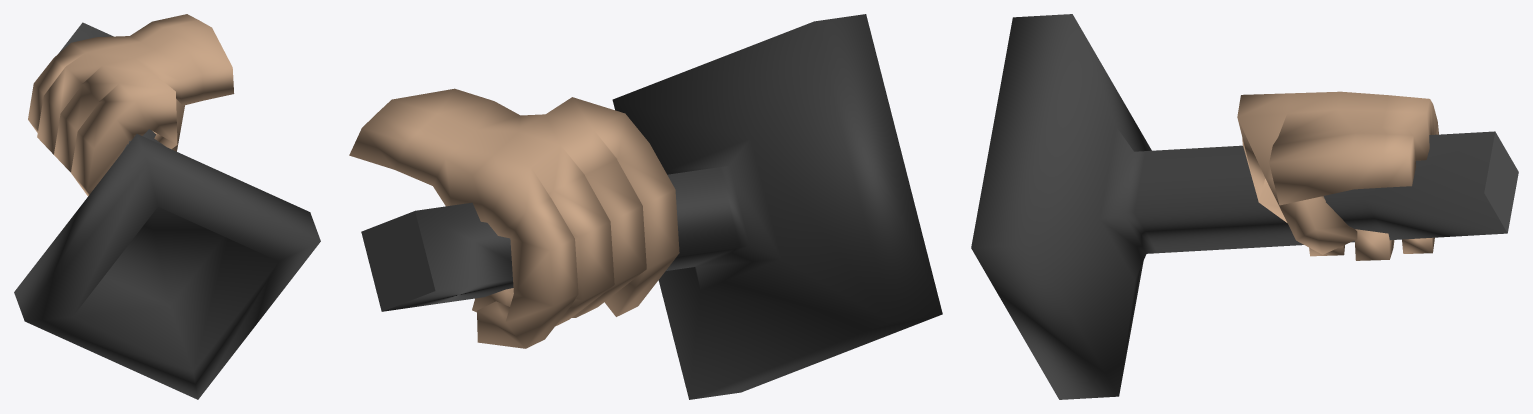
File: character.glb
The picture shows the model from 3 angles, left to right: view 1: azimuth 30°, elevation 25°; view 2: azimuth 150°, elevation 25°; view 3: azimuth 270°, elevation 25°; orthographic projection. The views are drawn at different scales.
Visible parts, largest first — view 1: Cube.081; view 2: Cube.081; view 3: Cube.081.
Boxes of the visible parts, bbox=[...] form: Cube.081: bbox=[14, 14, 320, 399]; Cube.081: bbox=[349, 14, 942, 399]; Cube.081: bbox=[971, 14, 1518, 399].
Size of the model in its own units: 0.8971 by 0.803 by 1.13.
